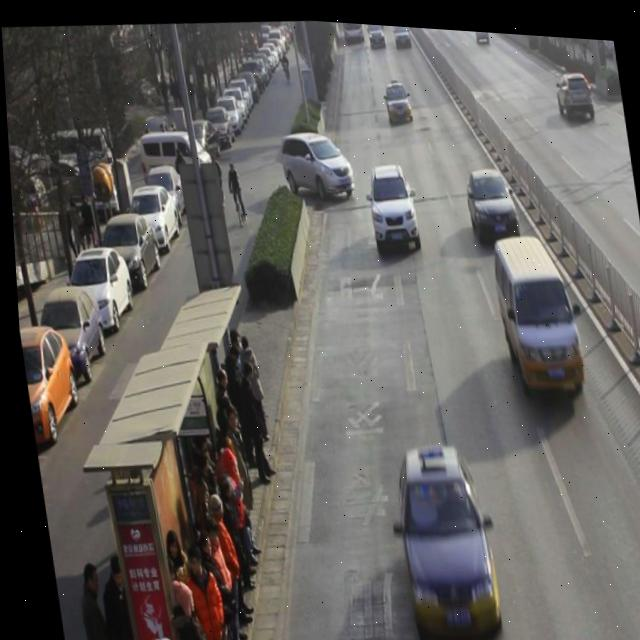car: (385, 430, 498, 640), (362, 156, 420, 252), (461, 156, 522, 246), (551, 60, 596, 116), (381, 73, 413, 121)
truck: (488, 223, 585, 396)
